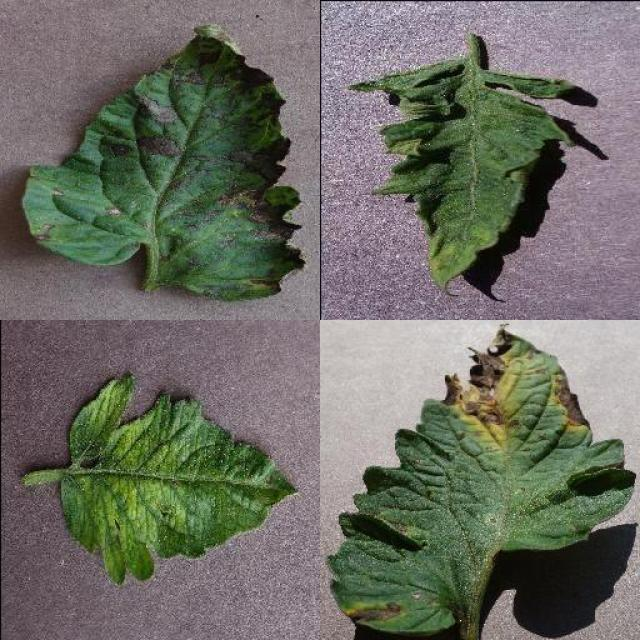Early Blight: (330, 330, 635, 638), (21, 20, 309, 305)
